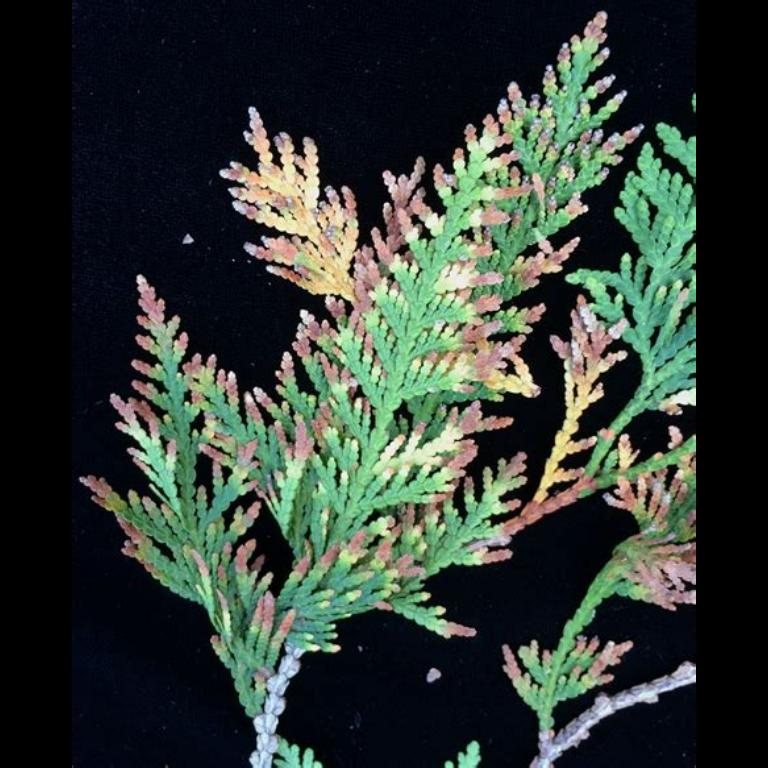blight: (230, 101, 292, 181), (571, 300, 607, 380)
